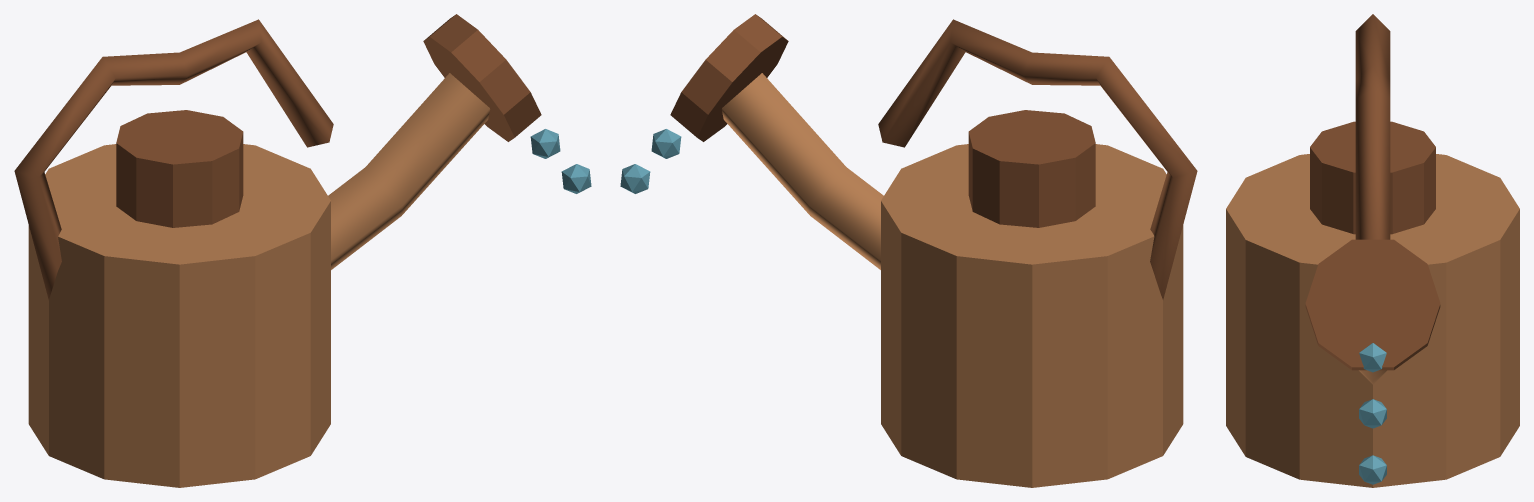
File: pieza-villager-watering-can-jPQ4P-5d.glb
3 renders of one model, left to right at view 1: azimuth 30°, elevation 25°; view 2: azimuth 150°, elevation 25°; view 3: azimuth 270°, elevation 25°, orthographic. The views are drawn at different scales.
Visible parts, largest first — view 1: cuerpo_regadera, asa_regadera, cuello_regadera, cano_regadera, alcachofa, Icosphere.002, Icosphere.001; view 2: cuerpo_regadera, asa_regadera, cuello_regadera, cano_regadera, alcachofa, Icosphere.002, Icosphere.001; view 3: cuerpo_regadera, alcachofa, cuello_regadera, asa_regadera, Icosphere.001, Icosphere.002, Icosphere.
Part boxes in pixels (box(x1,y1,x2,y2)): cuerpo_regadera: box(28, 144, 330, 487); asa_regadera: box(14, 19, 333, 299); cuello_regadera: box(116, 110, 243, 227); cano_regadera: box(328, 73, 490, 269); alcachofa: box(423, 14, 541, 141); Icosphere.002: box(561, 164, 591, 193); Icosphere.001: box(530, 129, 560, 158); cuerpo_regadera: box(881, 144, 1183, 487); asa_regadera: box(878, 19, 1197, 299); cuello_regadera: box(968, 110, 1095, 227); cano_regadera: box(721, 73, 883, 269); alcachofa: box(670, 14, 788, 141); Icosphere.002: box(620, 164, 650, 193); Icosphere.001: box(651, 129, 681, 158); cuerpo_regadera: box(1226, 154, 1519, 487); alcachofa: box(1305, 239, 1440, 370); cuello_regadera: box(1310, 121, 1435, 234); asa_regadera: box(1355, 14, 1390, 239); Icosphere.001: box(1359, 399, 1386, 428); Icosphere.002: box(1359, 455, 1386, 484); Icosphere: box(1359, 343, 1386, 372).
Bounding box in the file's own units: 5.93 × 3.8 × 2.7.
